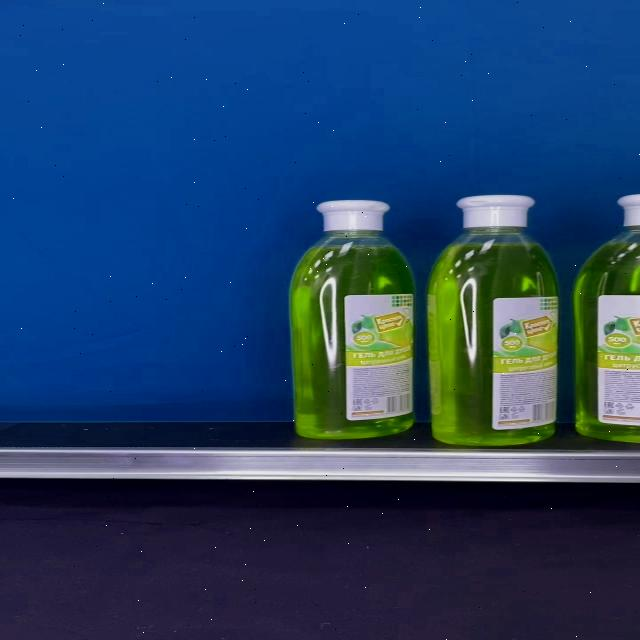Bottle: (427, 194, 560, 446), (290, 199, 413, 440)
Cap: (456, 195, 535, 229), (316, 200, 391, 232)
